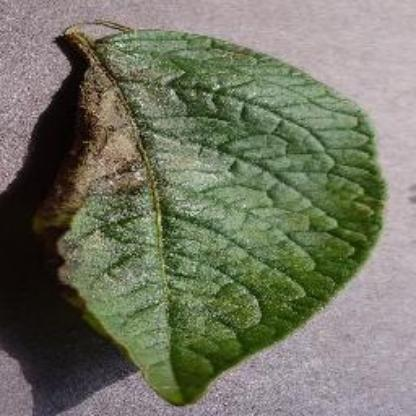Late-Blight: (30, 13, 392, 408)
